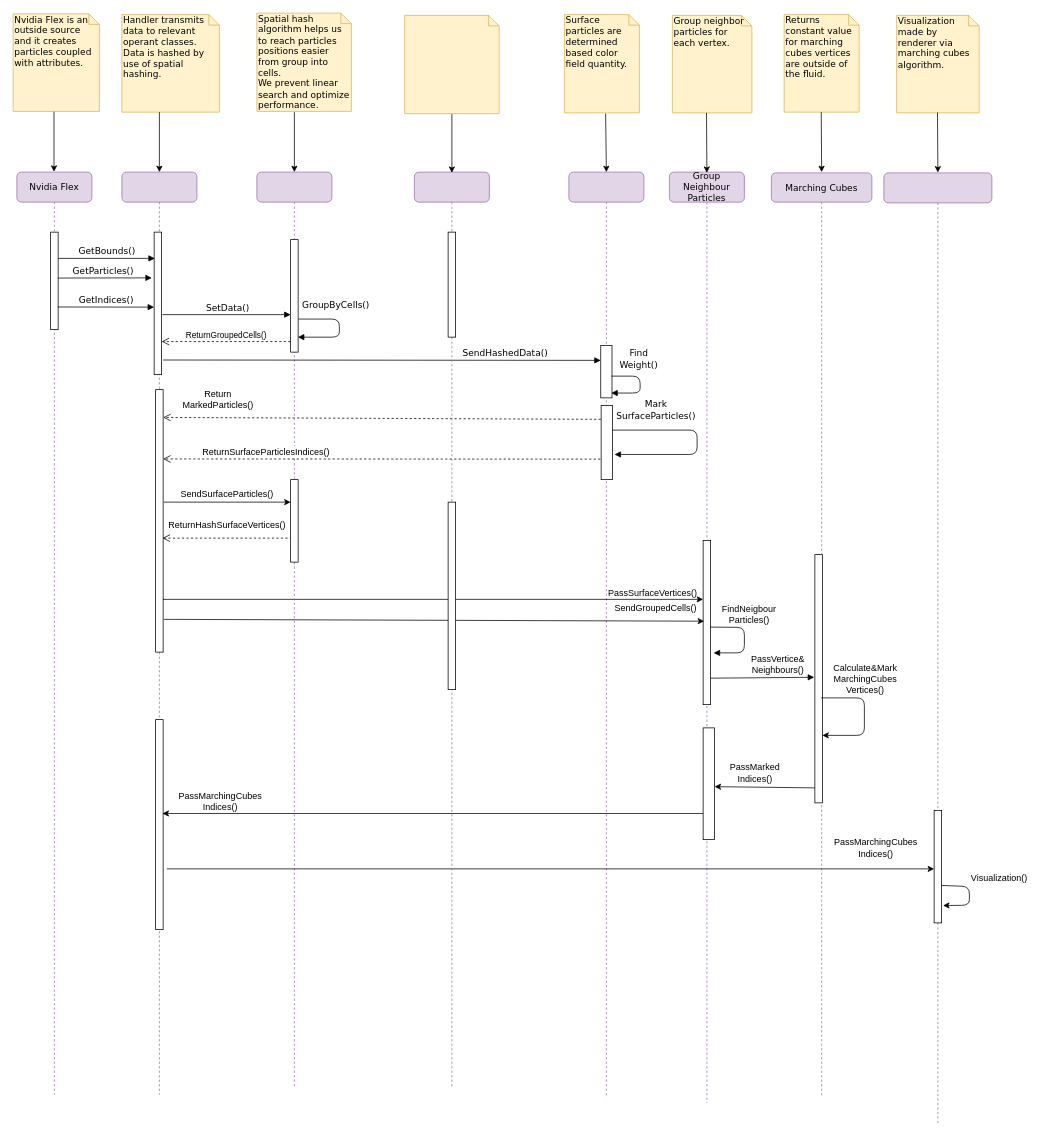
Image size: 1058x1139. Some labels were removed from this diagram. The shapes that lost their labels are listed below. From the top down, each one's box as (x1, y1, x2, y2) in pixels, then its label:
(121, 171, 197, 1095): Handler
(256, 171, 332, 1087): HashSystem
(414, 171, 489, 1087): Situational Surface Calculator
(568, 171, 644, 1095): Surface Particle Finder
(883, 172, 992, 1125): Triangulation
